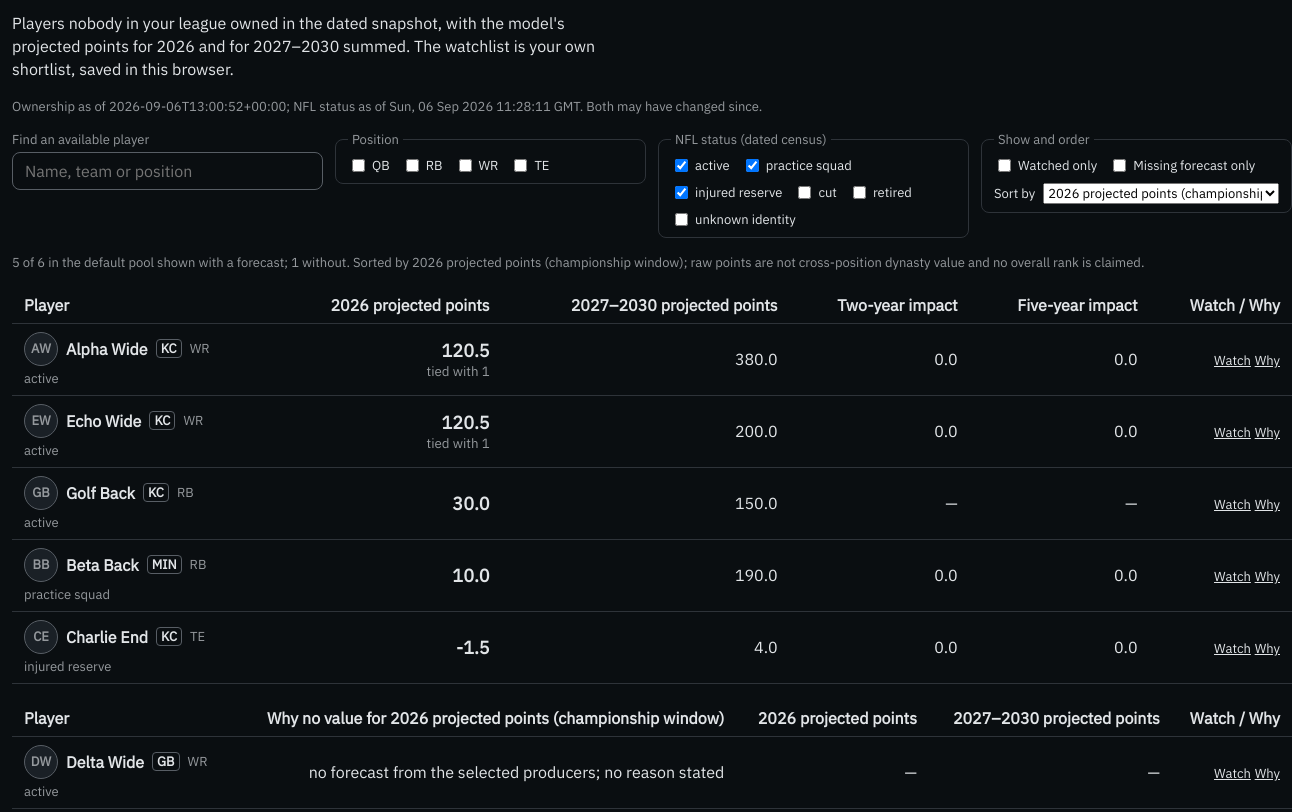
Test: AvailablePlayers › keeps forecast coverage and sort-value coverage distinct: a recovered forecast ranks by points but sits apart under impact with its reason
Expected: the element named "Available players" is shown, [12,287,1291,684]
Select "five-year impact above the reference" in the dropdown labelled "Sort by" at (1161, 193), box [1043,183,1279,204]
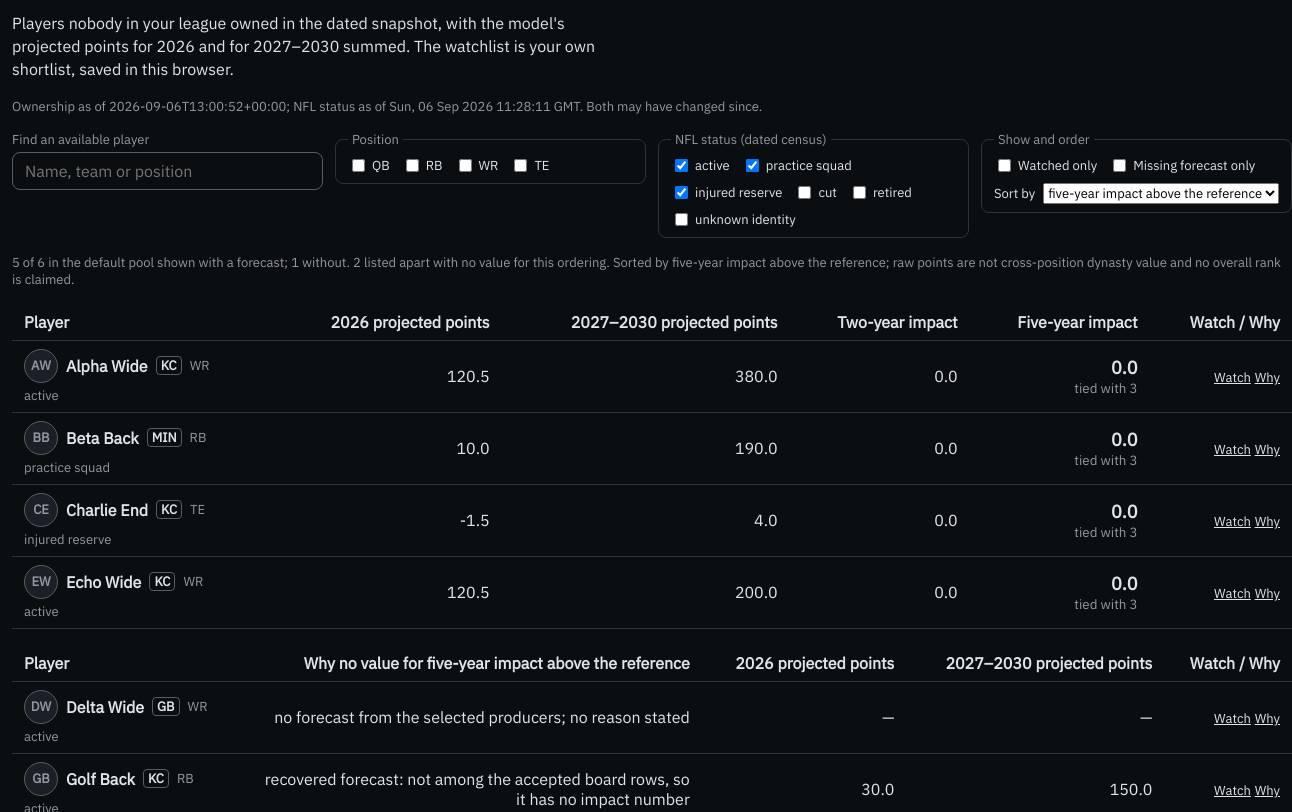
Now the text "sorted by five-year impact above the reference" is shown, box [12,254,1291,288]
Now the text "5 of 6 in the default pool shown with a forecast; 1 without. 2 listed apart with no value for this ordering" is shown, box [12,254,610,271]
Now the text "recovered forecast: not among the accepted board rows, so it has no impact number" is shown, box [265,769,690,809]
Note: the missing-forecast filter is about forecasts, not about the sort value
Click the checkbox labelled "Missing forecast only" at (1120, 165), box [1113,159,1126,172]
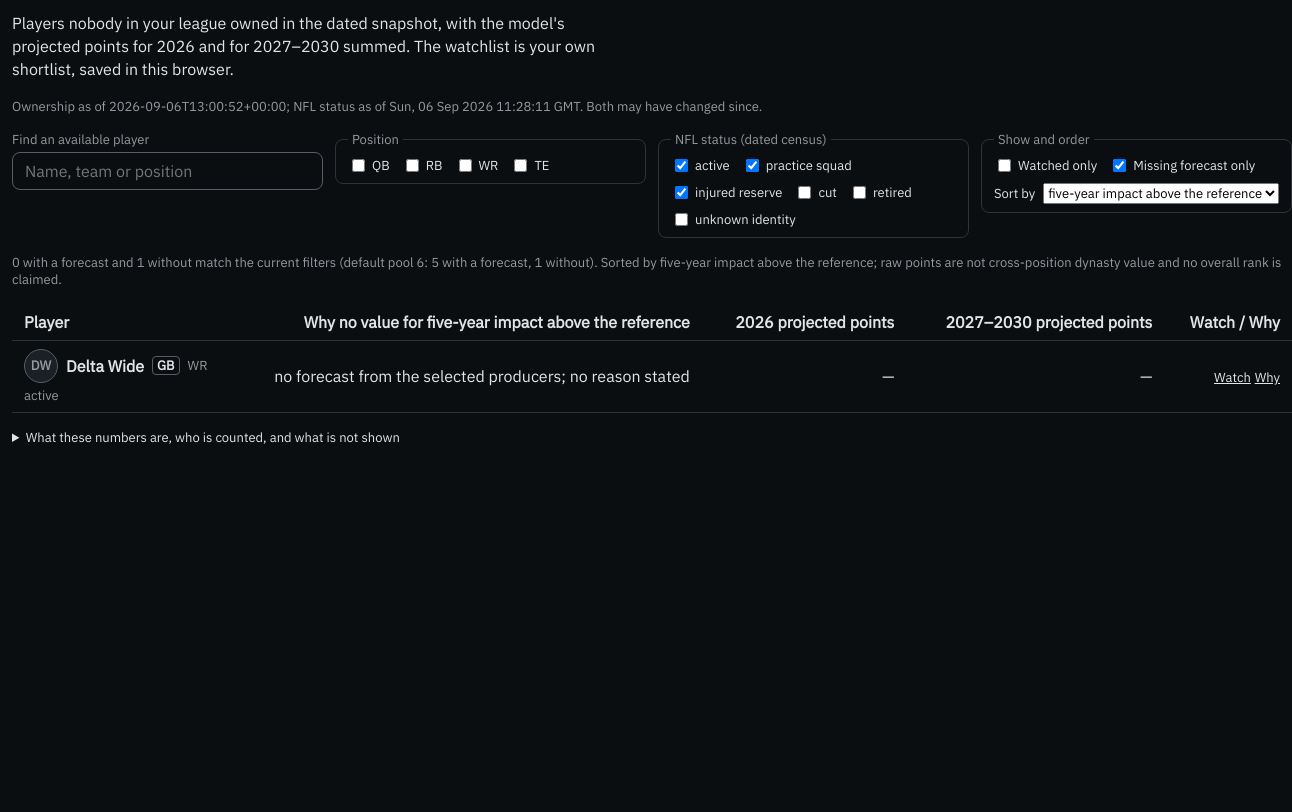
Expected: the text "Delta Wide" is shown, [66,356,144,376]
Now the text "Golf Back" is gone
